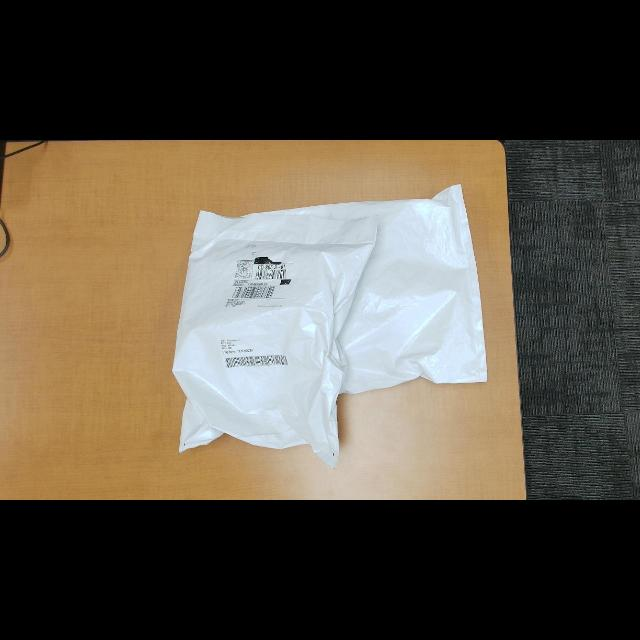mailer: (224, 182, 488, 390), (173, 208, 375, 470)
